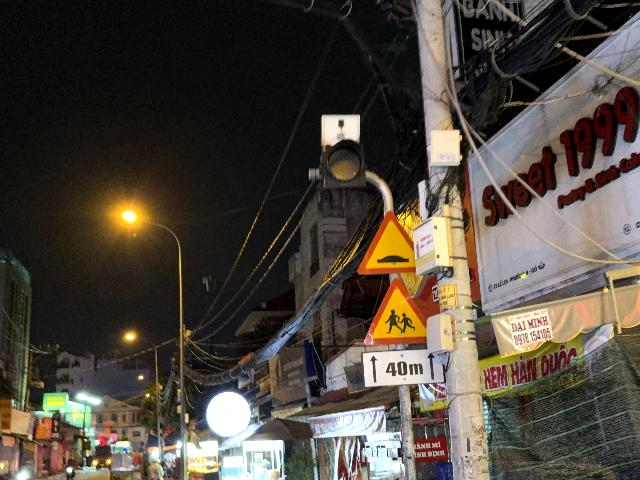duong-co-go-giam-toc: (357, 210, 419, 274)
tre-em-qua-duong: (364, 277, 427, 346)
